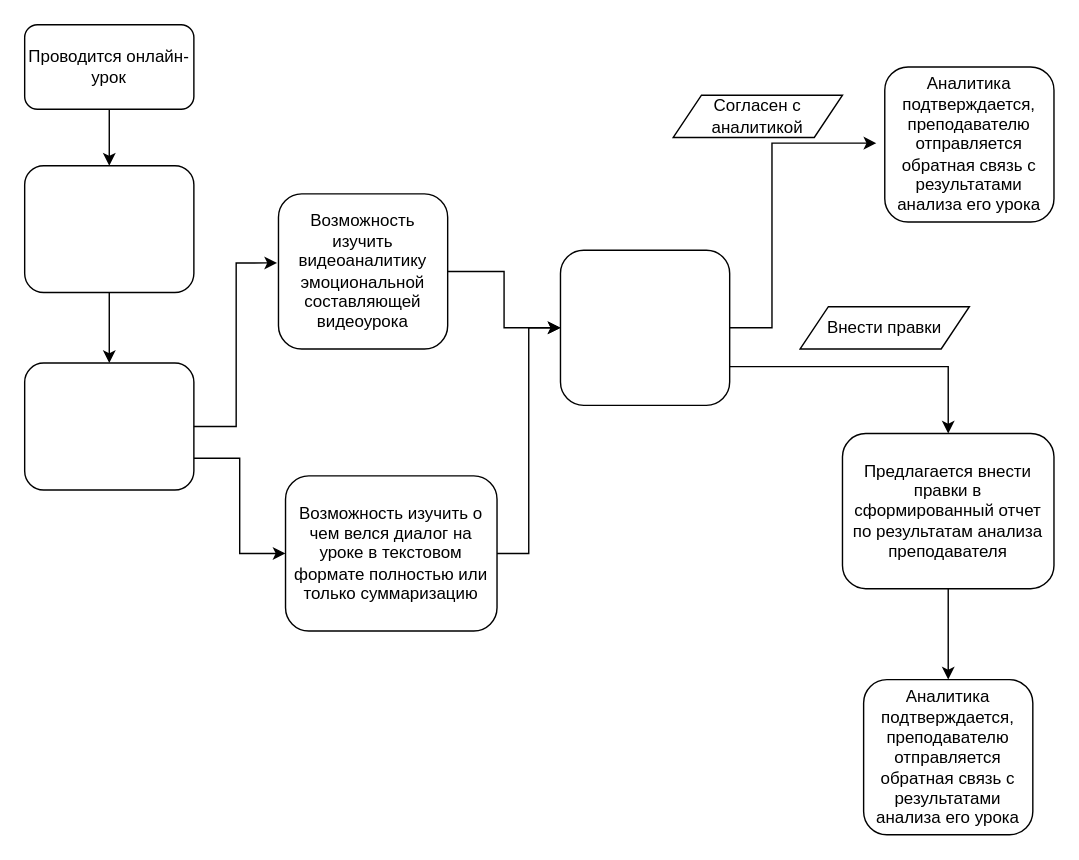
Image size: 1079x860. Some labels were removed from this diagram. The centre of each missing label's shape, as x and y in pixels:
В LMS системе компании появляется полная аналитика по этому уроку: point 108,426
Видеозапись урока сохраняется и автоматически попадает на сервер EdControl: point 108,228
На экране появляются кнопки " согласиться с аналитикой " и " внести правки ": point 644,327
